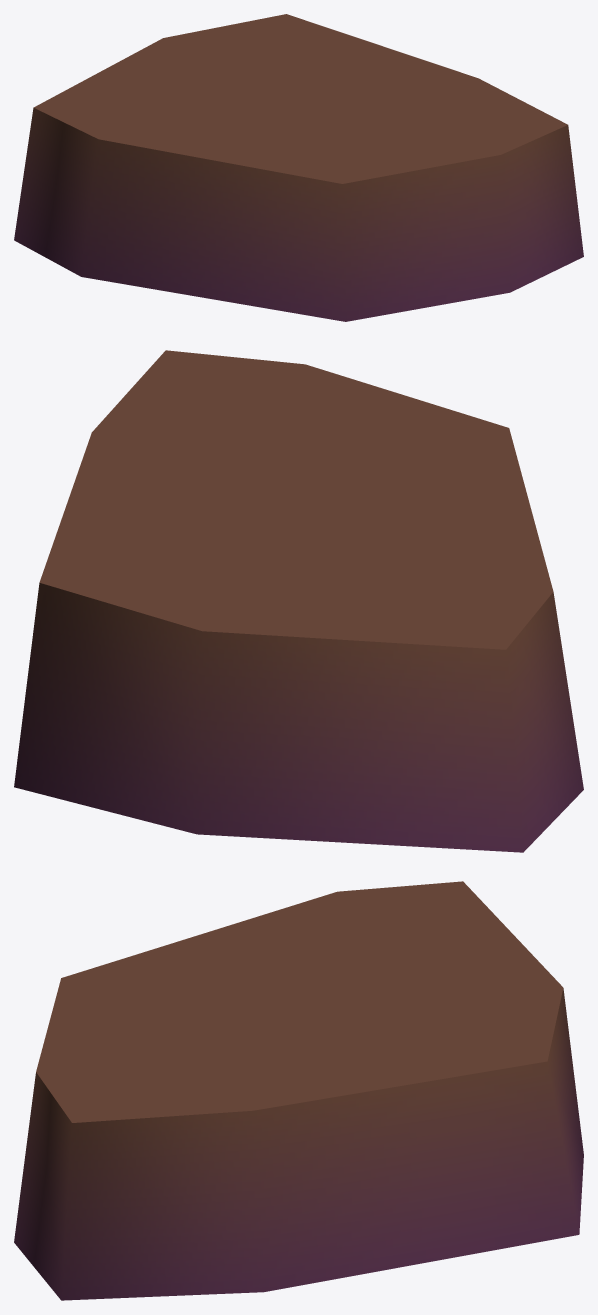
3 views of the same model, one above another, from view 1: azimuth 30°, elevation 25°; view 2: azimuth 150°, elevation 25°; view 3: azimuth 270°, elevation 25° (orthographic). The views are drawn at different scales.
Visible parts, largest first — view 1: Cube.081; view 2: Cube.081; view 3: Cube.081.
Boxes of the visible parts, x1,y1,x2,y2 form: Cube.081: (14, 14, 583, 321); Cube.081: (14, 350, 583, 852); Cube.081: (14, 881, 583, 1300).
Bounding box in the file's own units: 15.29 × 4.69 × 14.22.
